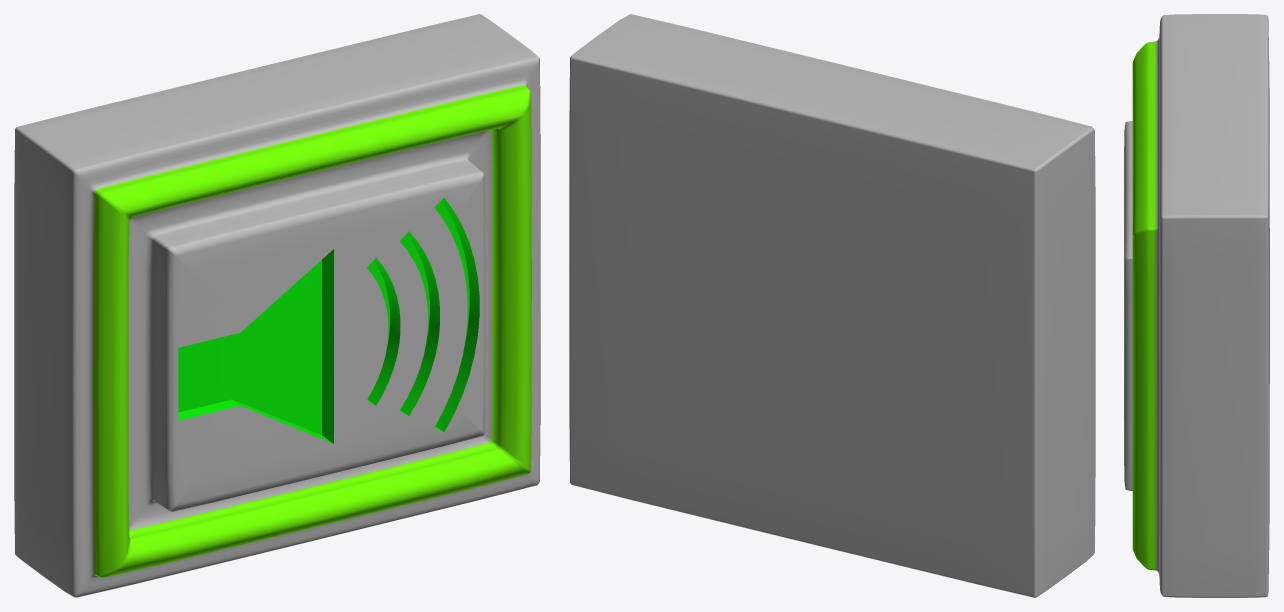
File: mdl_LetereroSFX.fbx
3 views of the same model, side by side, from view 1: azimuth 30°, elevation 25°; view 2: azimuth 150°, elevation 25°; view 3: azimuth 270°, elevation 25° (orthographic). The views are drawn at different scales.
Visible parts, largest first — view 1: Letrero_Sonido1_Letrerito_musica_Letrero_Salir1; view 2: Letrero_Sonido1_Letrerito_musica_Letrero_Salir1; view 3: Letrero_Sonido1_Letrerito_musica_Letrero_Salir1.
Boxes of the visible parts, left/top/right/bottom form: Letrero_Sonido1_Letrerito_musica_Letrero_Salir1: left=14, top=14, right=540, bottom=597; Letrero_Sonido1_Letrerito_musica_Letrero_Salir1: left=569, top=14, right=1095, bottom=597; Letrero_Sonido1_Letrerito_musica_Letrero_Salir1: left=1124, top=14, right=1269, bottom=597.
Bounding box in the file's own units: 110 × 96.73 × 33.25.
